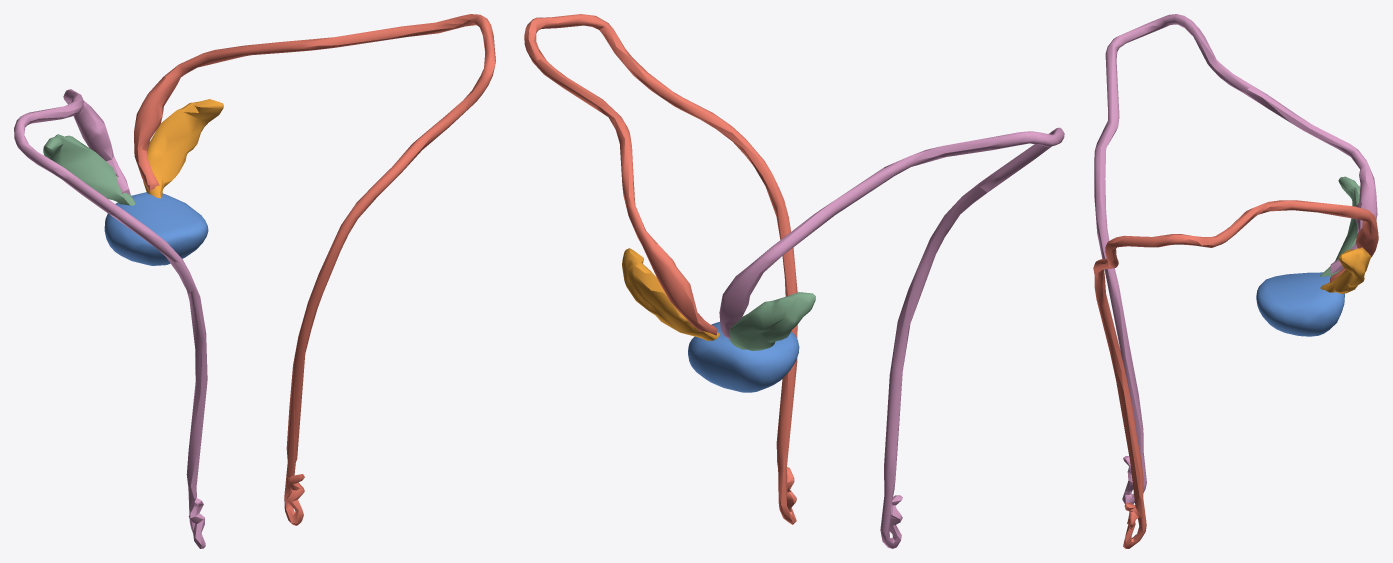
Rendered from prostate.glb.
3 renders of one model, left to right at view 1: azimuth 30°, elevation 25°; view 2: azimuth 150°, elevation 25°; view 3: azimuth 270°, elevation 25°, orthographic. The views are drawn at different scales.
Visible parts, largest first — view 1: Left deferent duct, Right deferent duct, Prostate, Left seminal vesicle, Right seminal vesicle; view 2: Left deferent duct, Right deferent duct, Prostate, Right seminal vesicle, Left seminal vesicle; view 3: Right deferent duct, Left deferent duct, Prostate, Left seminal vesicle, Right seminal vesicle.
Part boxes in pixels (x1,y1,x2,y2): Left deferent duct: [134, 14, 495, 525]; Right deferent duct: [14, 89, 207, 548]; Prostate: [104, 192, 208, 265]; Left seminal vesicle: [143, 99, 223, 198]; Right seminal vesicle: [43, 134, 135, 205]; Left deferent duct: [524, 14, 797, 524]; Right deferent duct: [719, 127, 1064, 548]; Prostate: [688, 322, 799, 392]; Right seminal vesicle: [729, 292, 815, 350]; Left seminal vesicle: [622, 248, 720, 340]; Right deferent duct: [1094, 14, 1377, 504]; Left deferent duct: [1093, 200, 1378, 548]; Prostate: [1256, 272, 1344, 336]; Left seminal vesicle: [1320, 247, 1370, 293]; Right seminal vesicle: [1320, 176, 1360, 276].
Bounding box in the file's own units: 2 × 1.78 × 1.1.
